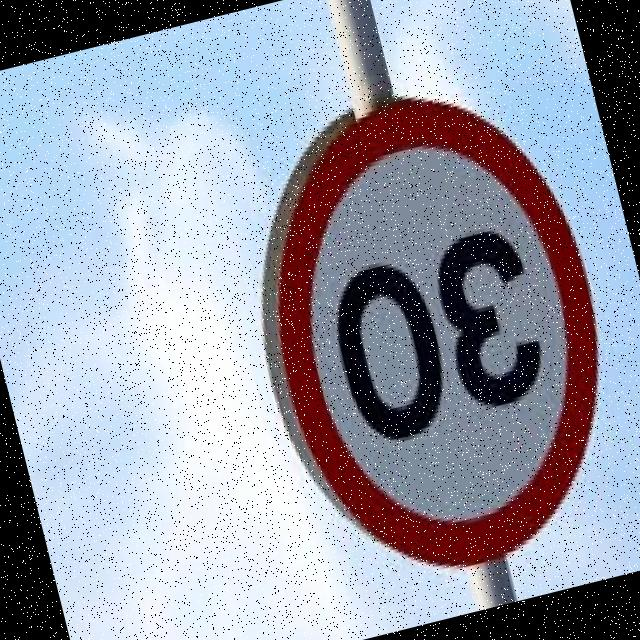speed_limit_30: (221, 59, 640, 606)
